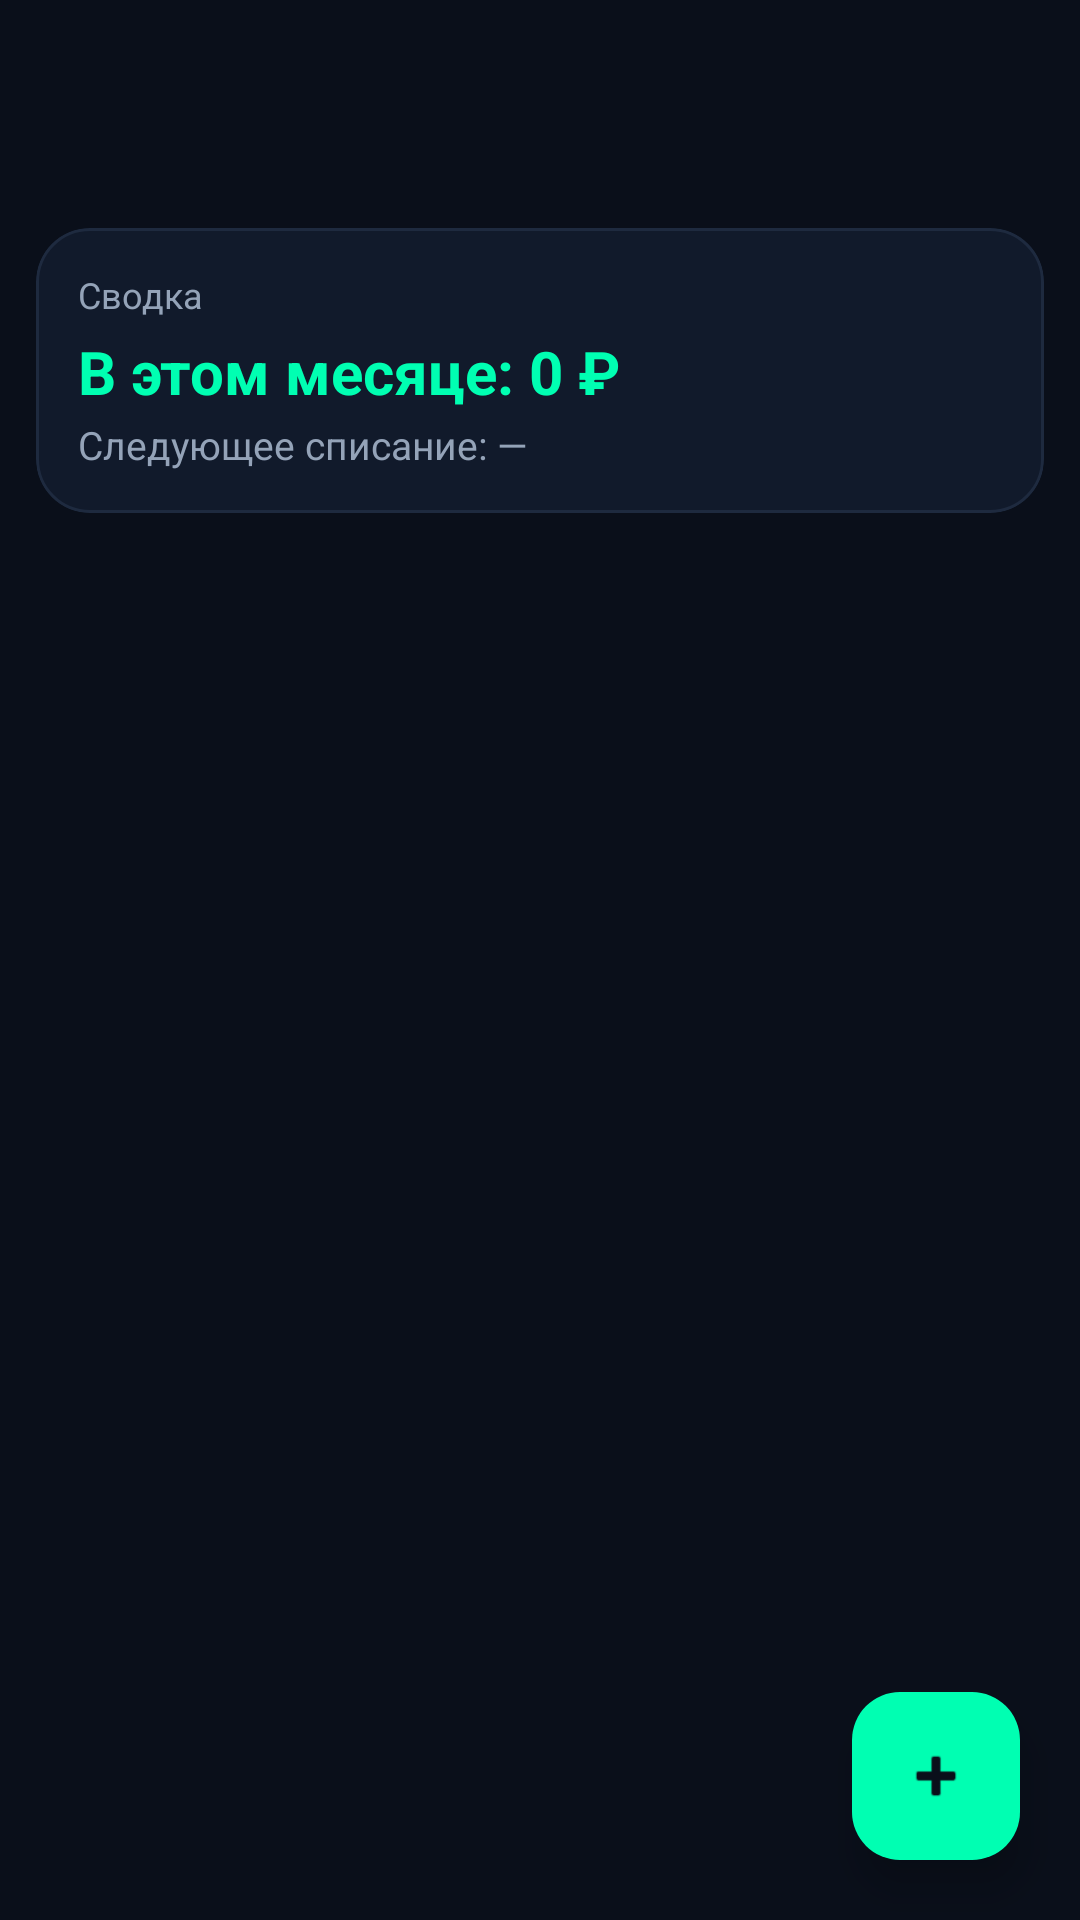

Icons on this 1080px×1920px Android screen, each with its box as [x1=x1, y1=y1, x2=x2, y2=y2]:
Новая подписка: [x1=852, y1=1692, x2=1020, y2=1860]
